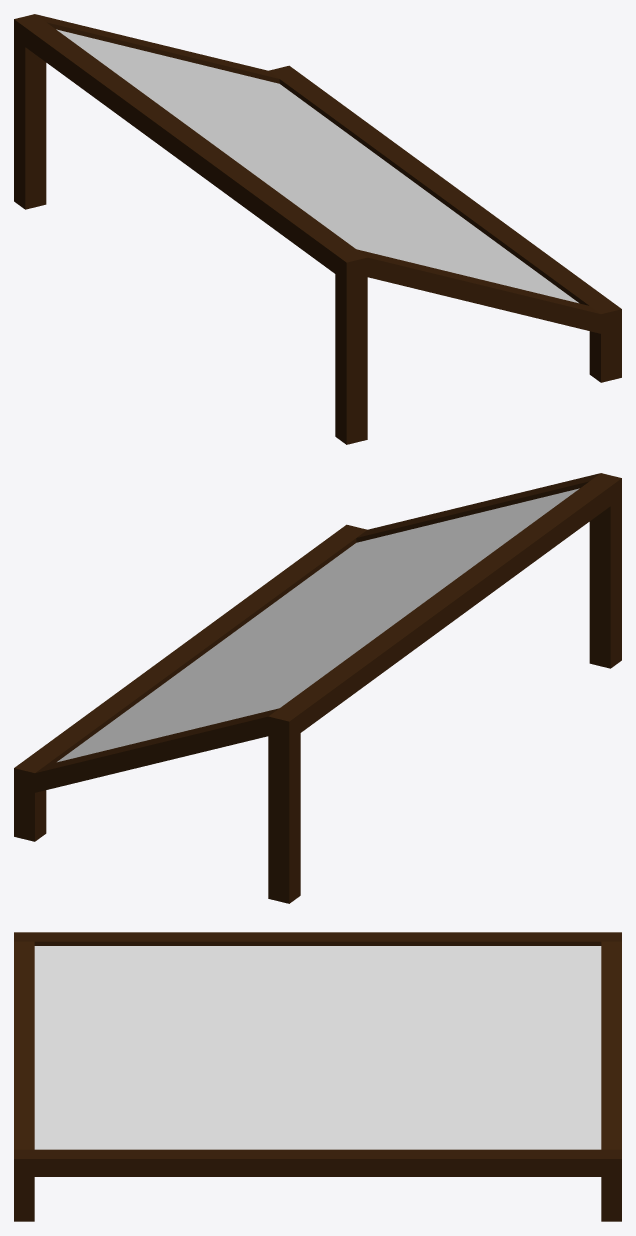
File: Hero_Products_holder.fbx
The picture shows the model from 3 angles, top to bottom: view 1: azimuth 30°, elevation 25°; view 2: azimuth 150°, elevation 25°; view 3: azimuth 270°, elevation 25°; orthographic projection. The views are drawn at different scales.
Visible parts, largest first — view 1: Cube.003, Cube.005; view 2: Cube.003, Cube.005; view 3: Cube.005, Cube.003.
Boxes of the visible parts, x1,y1,x2,y2 form: Cube.003: [14, 14, 621, 444]; Cube.005: [56, 29, 578, 303]; Cube.003: [14, 473, 621, 903]; Cube.005: [57, 488, 579, 762]; Cube.005: [34, 946, 601, 1149]; Cube.003: [14, 932, 621, 1221].
Bounding box in the file's own units: 77.23 × 48.86 × 162.
